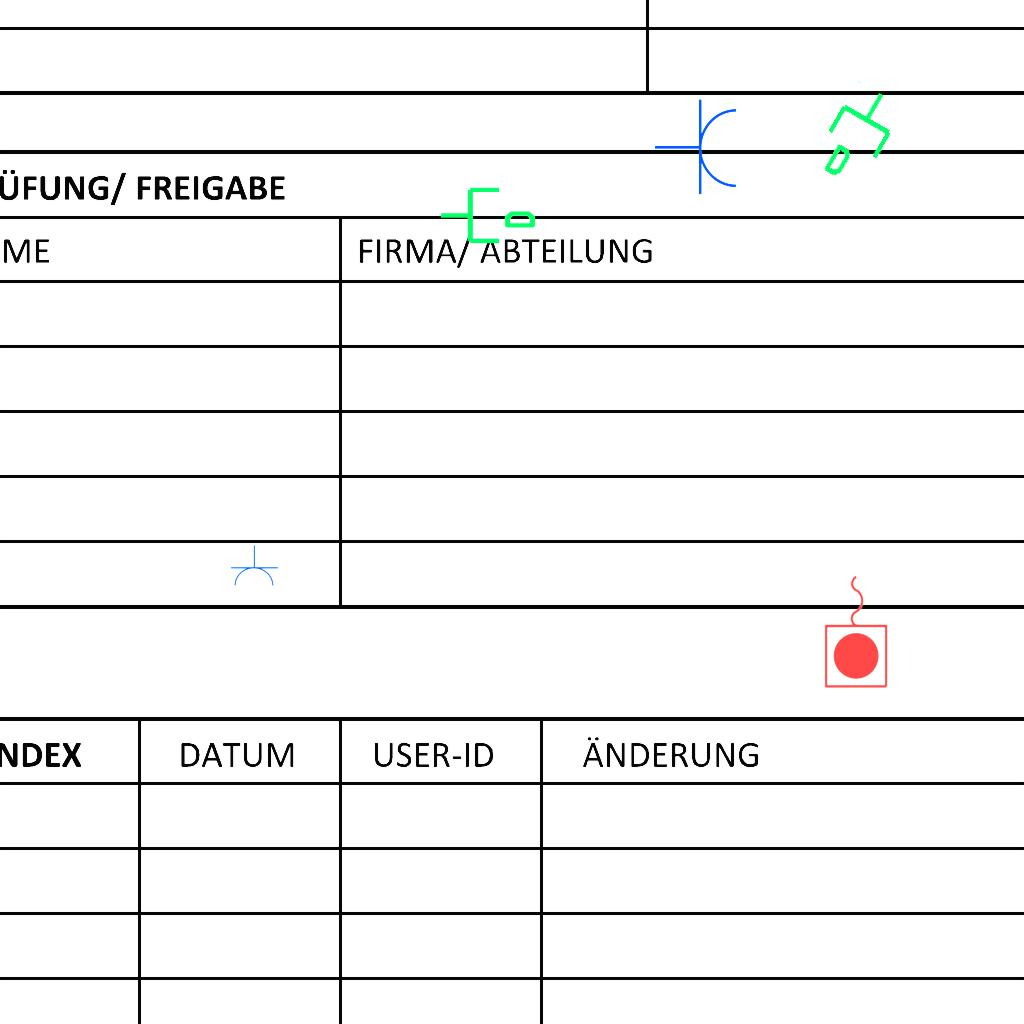Datenanschluss_einfach: (804, 75, 915, 197), (438, 179, 538, 248)
Schukosteckdose_einfach: (654, 98, 741, 198), (229, 545, 279, 588)
Zugtaster: (821, 570, 893, 692)
